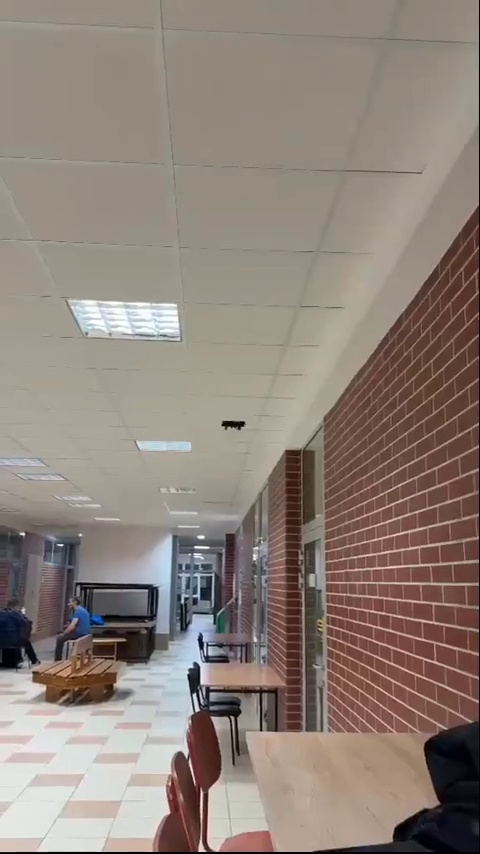drone: (219, 419, 247, 431)
no vest: (0, 598, 44, 665), (56, 589, 94, 655)
